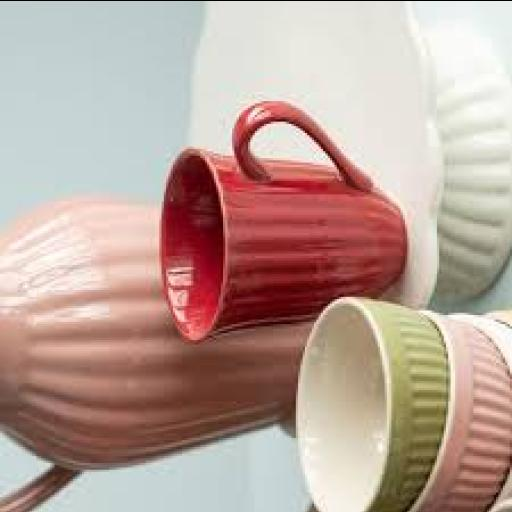red mug: (162, 102, 407, 342)
